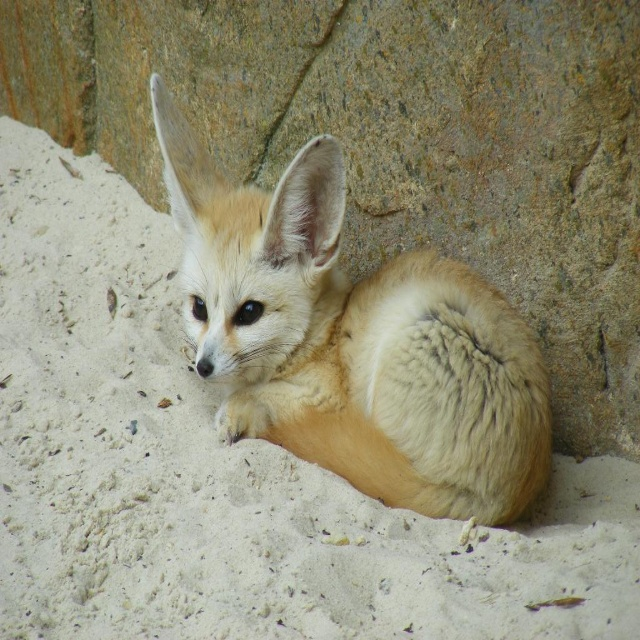Fox: (147, 71, 554, 526)
